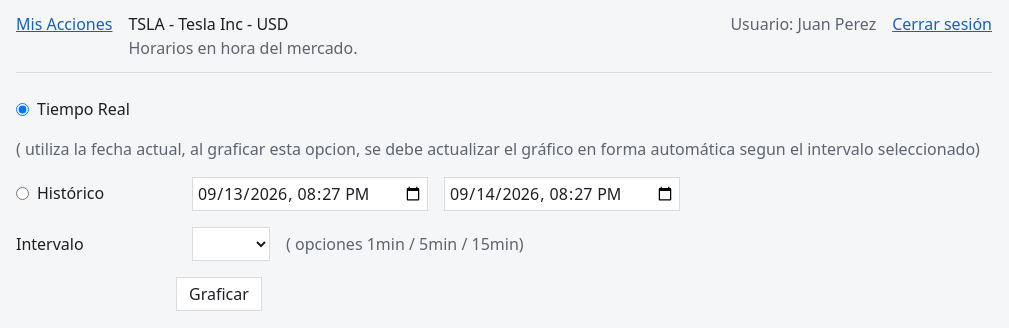
Test case: the header of the detail › offers the way back to the list as a link, and it goes there
Check: the button "Graficar" is shown, box 176,277 -> 262,311
What coordinates should you click on to do the following:
click the link "Mis Acciones"
I would click on:
 (64, 24)
Its box is 16,12 -> 112,36.
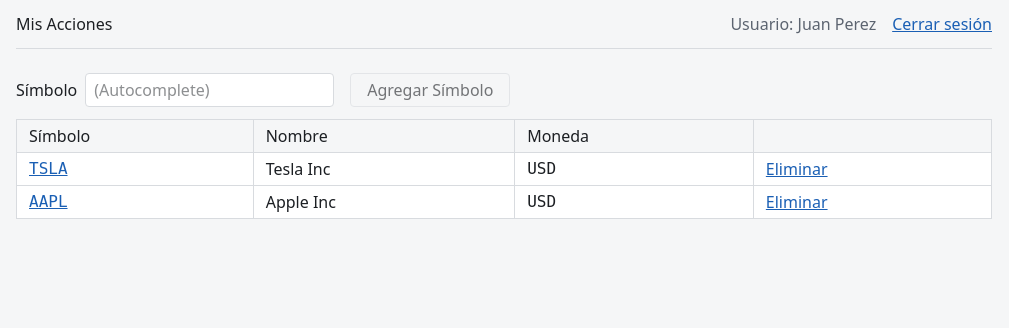
Check: the heading "Mis Acciones" is shown, box 16,12 -> 112,36
